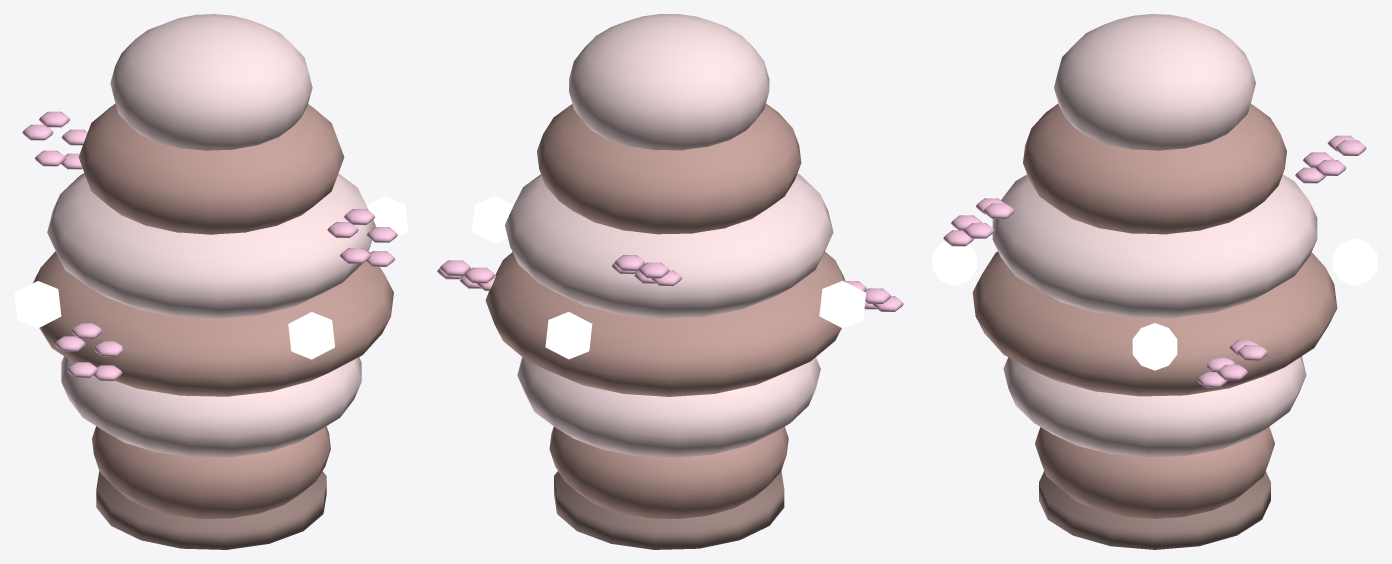
Rendered from egg_blossom_03.glb.
The picture shows the model from 3 angles, left to right: view 1: azimuth 30°, elevation 25°; view 2: azimuth 150°, elevation 25°; view 3: azimuth 270°, elevation 25°; orthographic projection.
Parts seen in each view (by area): view 1: ball; view 2: ball; view 3: ball.
Boxes of the visible parts, x1=… form: ball: x1=14, y1=14, x2=408, y2=549; ball: x1=437, y1=14, x2=903, y2=549; ball: x1=932, y1=14, x2=1377, y2=549.
Size of the model in its own units: 0.8494 by 0.99 by 0.8451.
